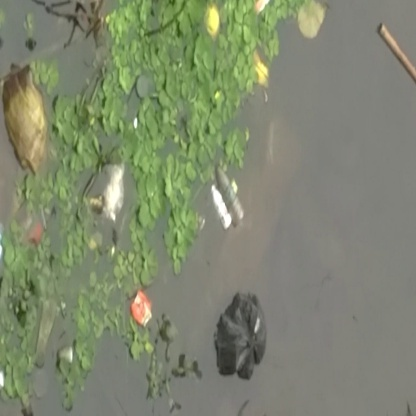plastic-bag: (208, 286, 275, 386), (86, 159, 127, 227)
